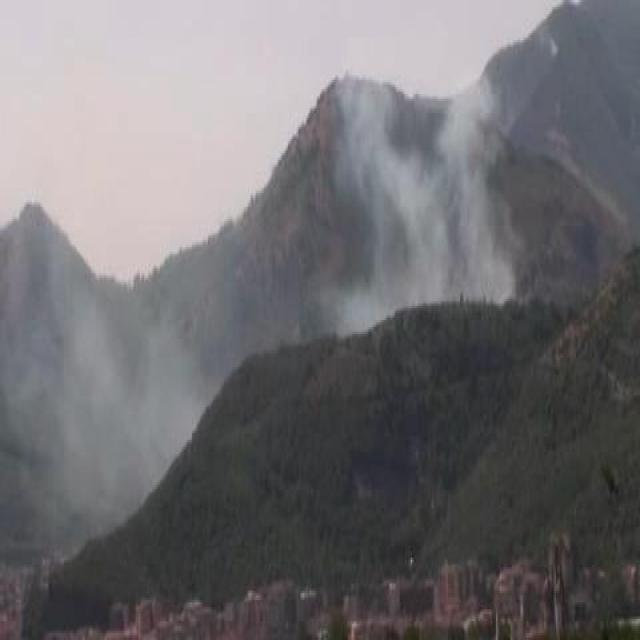Smoke: (311, 80, 505, 313), (29, 292, 184, 466)
